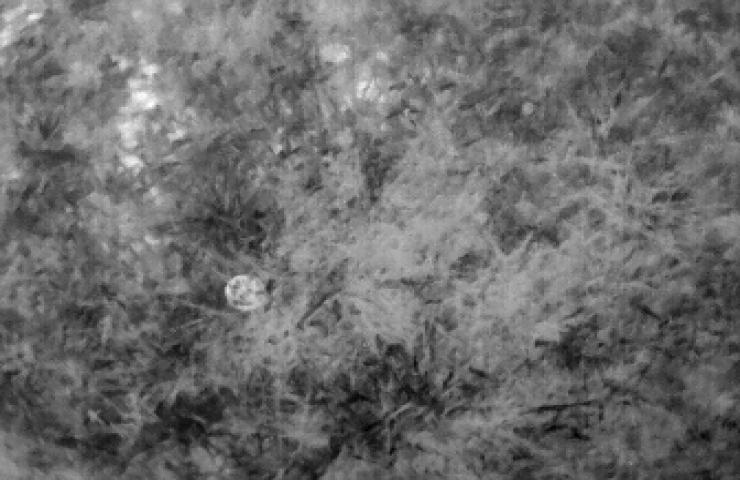landmines: (220, 273, 275, 319)
